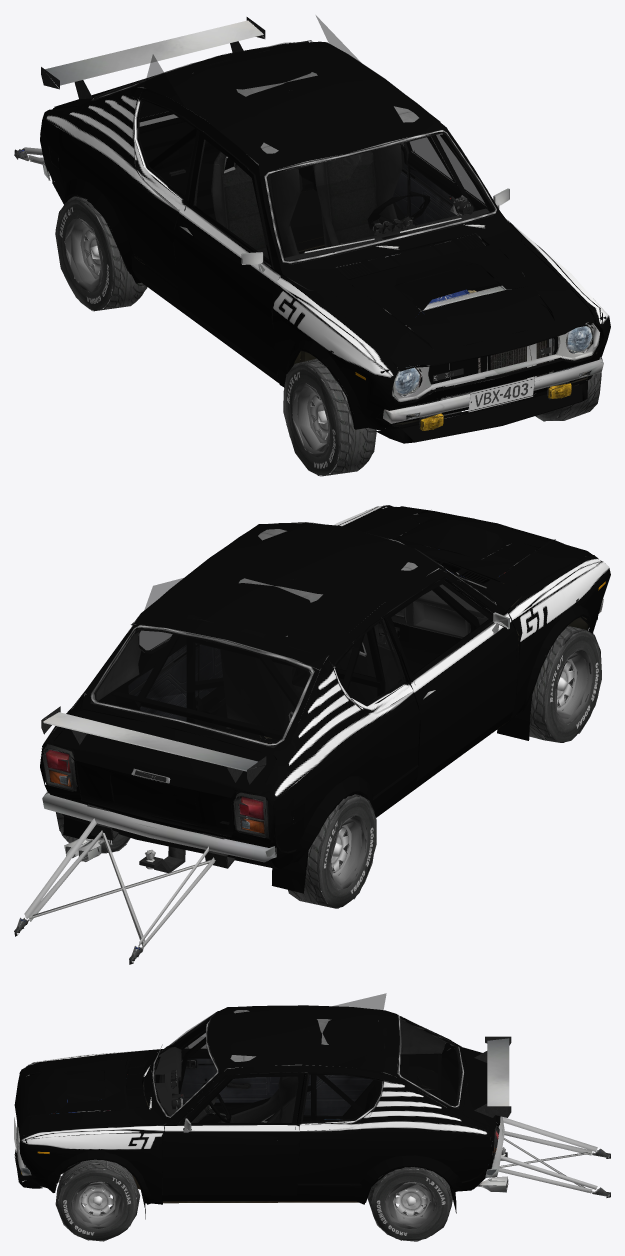
Rendered from satsuma-gt-datsun-100a-23c953.glb.
3 renders of one model, top to bottom at view 1: azimuth 30°, elevation 25°; view 2: azimuth 150°, elevation 25°; view 3: azimuth 270°, elevation 25°, orthographic. The views are drawn at different scales.
Parts seen in each view (by area): view 1: body; view 2: body; view 3: body.
Boxes of the visible parts, bbox=[...] form: body: bbox=[14, 16, 610, 476]; body: bbox=[14, 505, 610, 964]; body: bbox=[14, 993, 610, 1241].
Size of the model in its own units: 1.59 by 1.45 by 4.41.
Materials: 40 (30 with a texture image).
